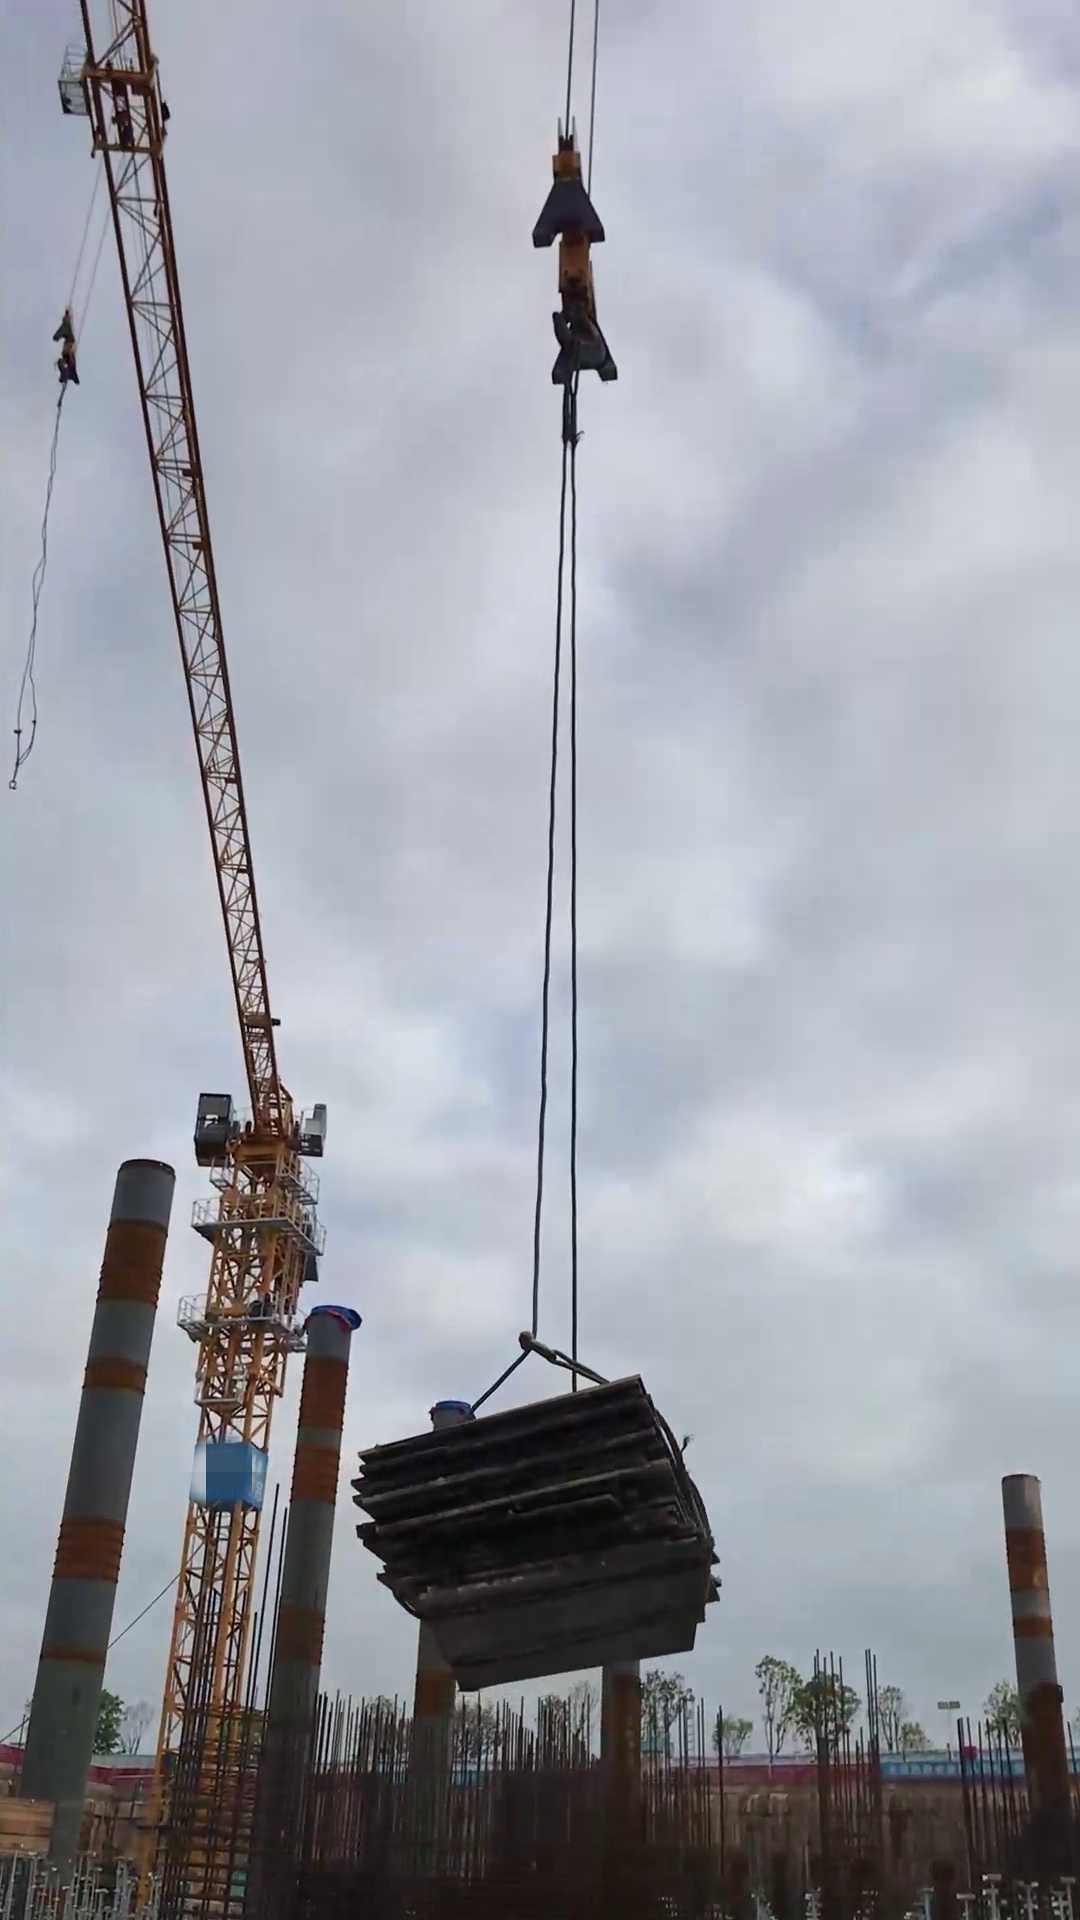board: (348, 1370, 725, 1697)
hook: (527, 113, 621, 389), (50, 302, 84, 389)
slogan: (880, 1755, 1026, 1783)
